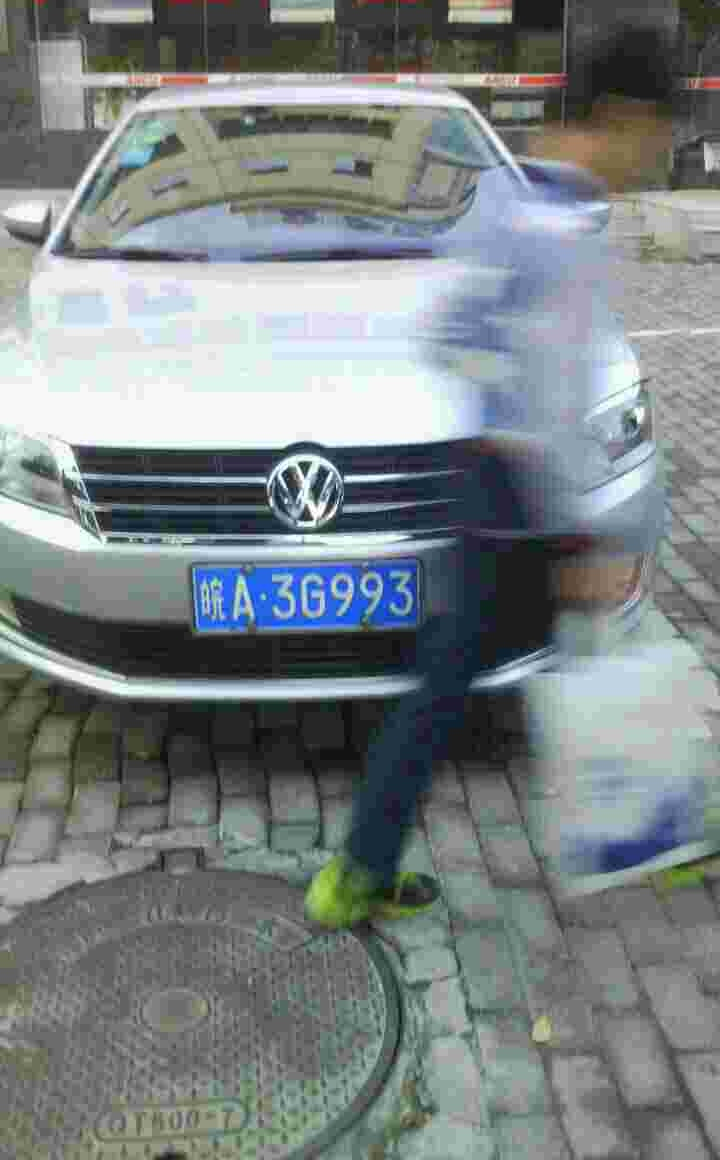plate: (195, 556, 426, 636)
